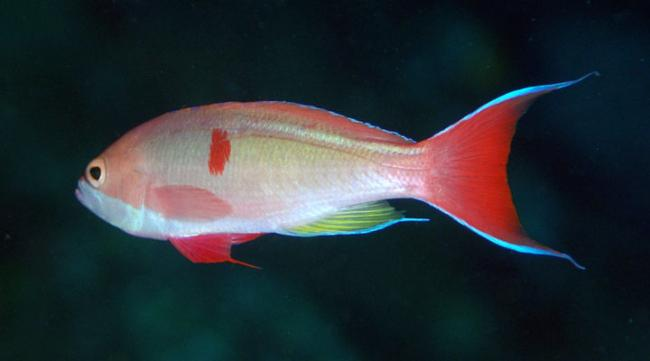fish: (73, 71, 599, 271)
